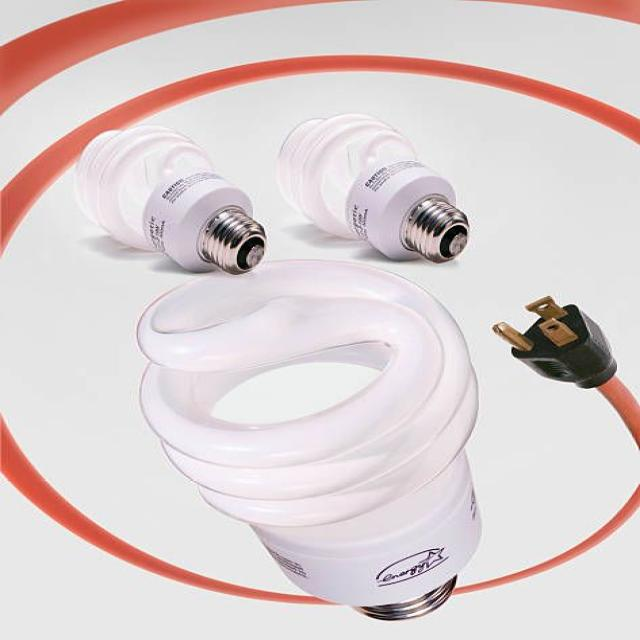electronic: (134, 257, 483, 620), (71, 122, 266, 275), (274, 111, 470, 263)
